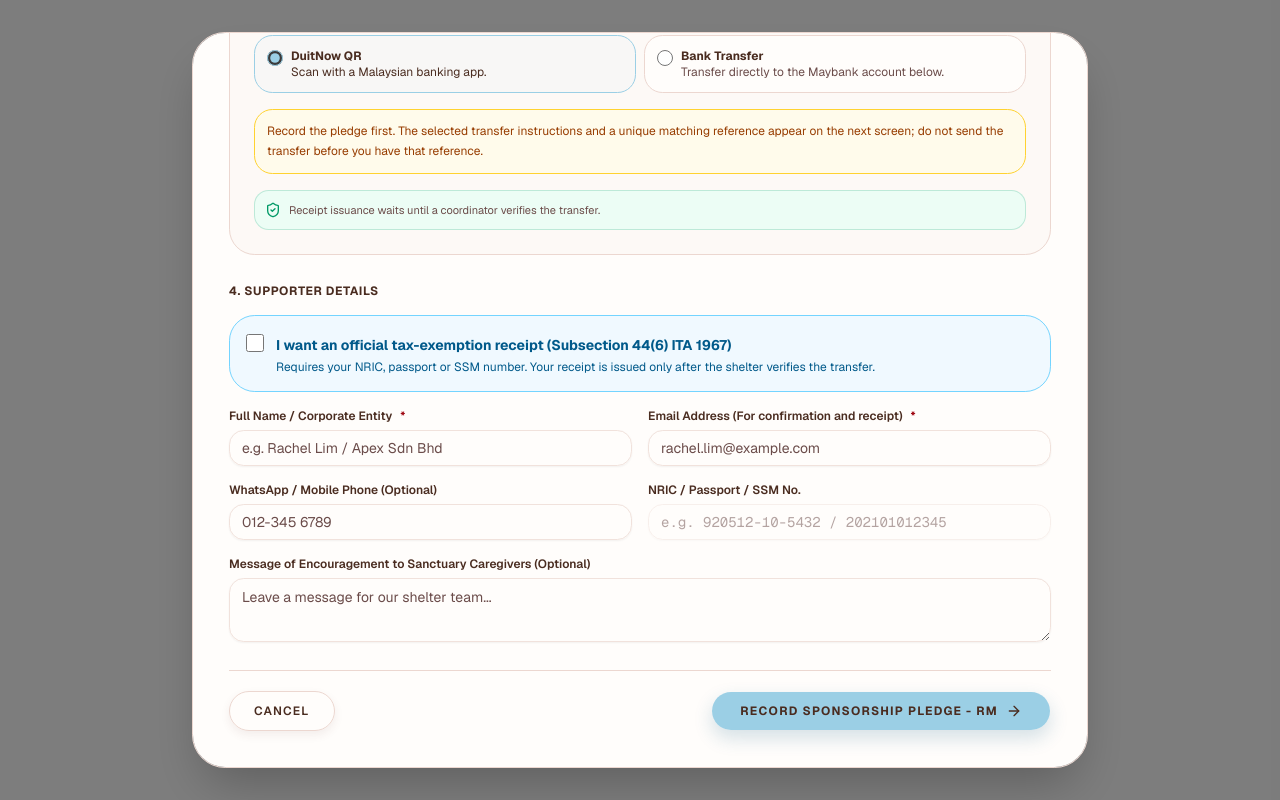
Test: SponsorshipModal checkout contract › renders a pledge acknowledgement without inventing an issued receipt
(page scrolled)
Type "Aisyah Rahman" into the field labelled "Full Name / Corporate Entity *" at (430, 448), box [229, 430, 632, 466]
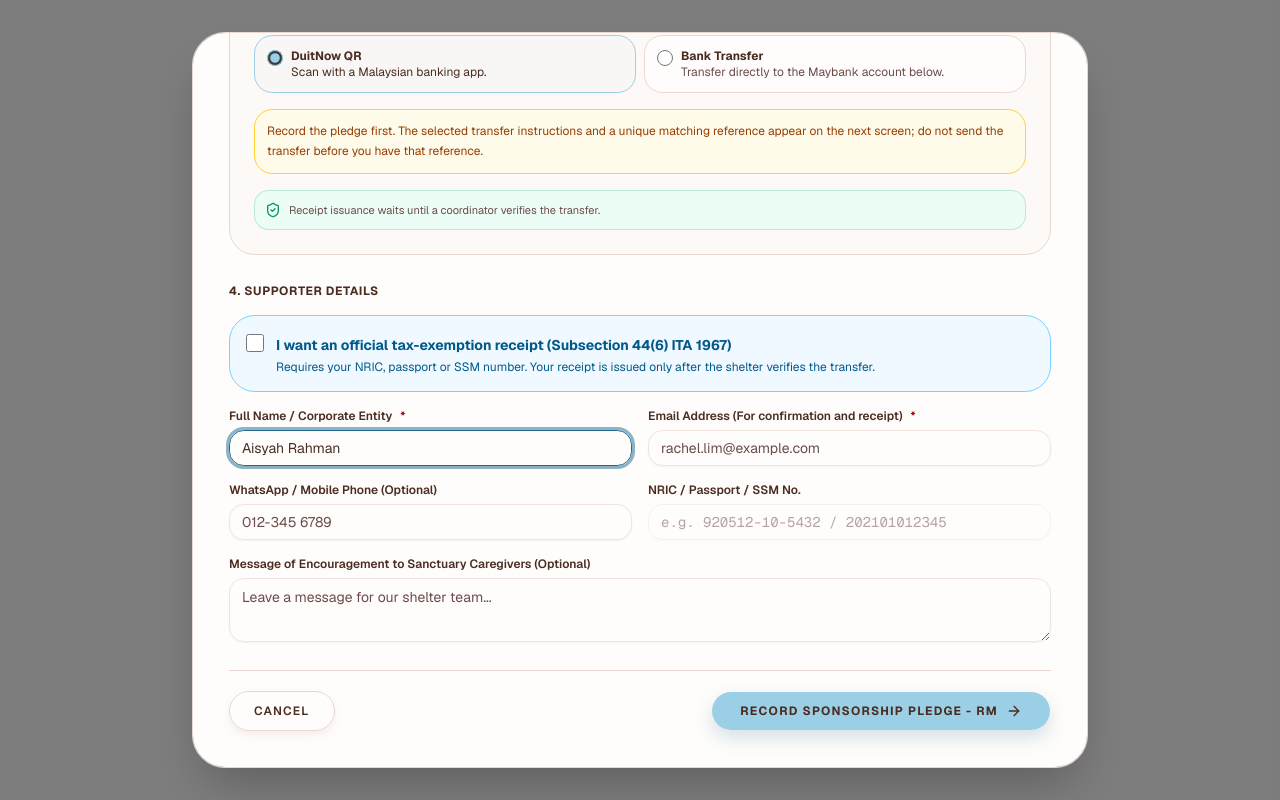
Type "aisyah@example.com" into the field labelled "Email Address (For confirmation and receipt) *" at (850, 448), box [648, 430, 1051, 466]
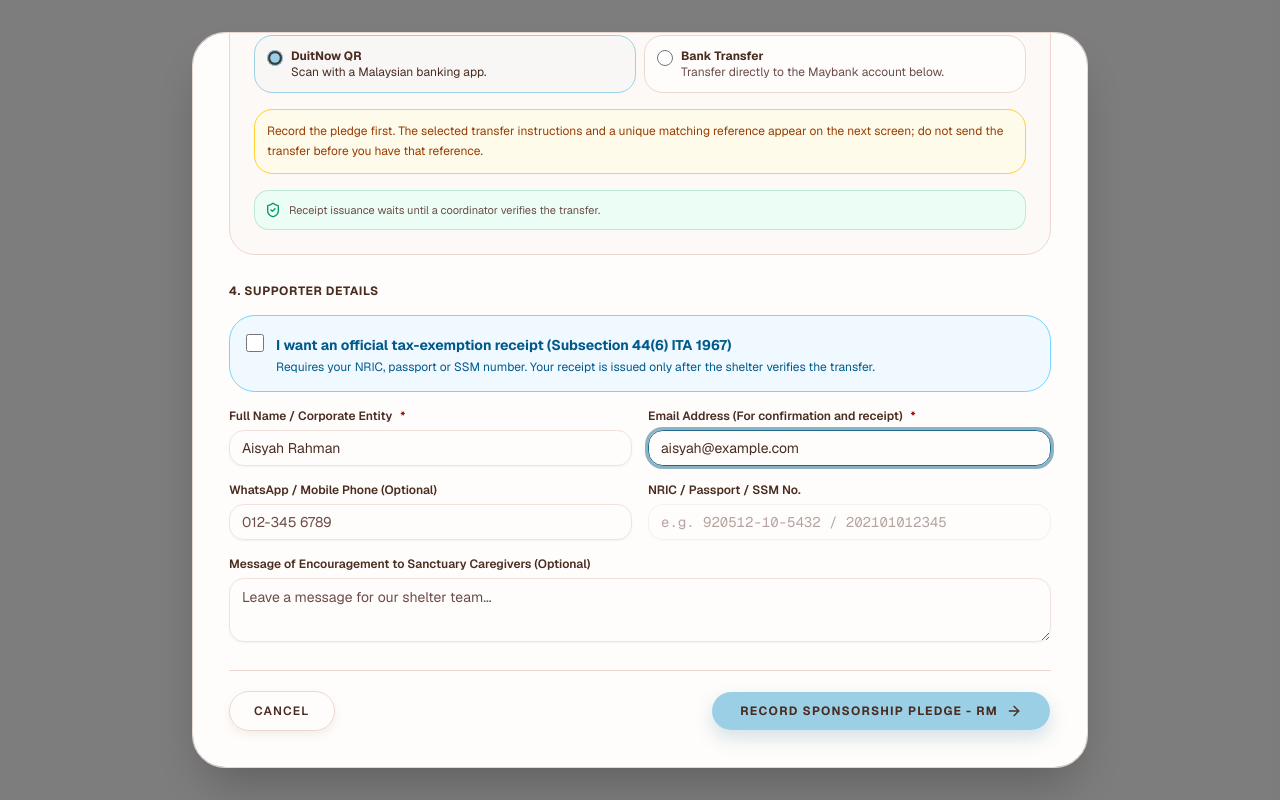
Click the button "Record Sponsorship Pledge - RM" at (881, 711), box [711, 691, 1051, 731]
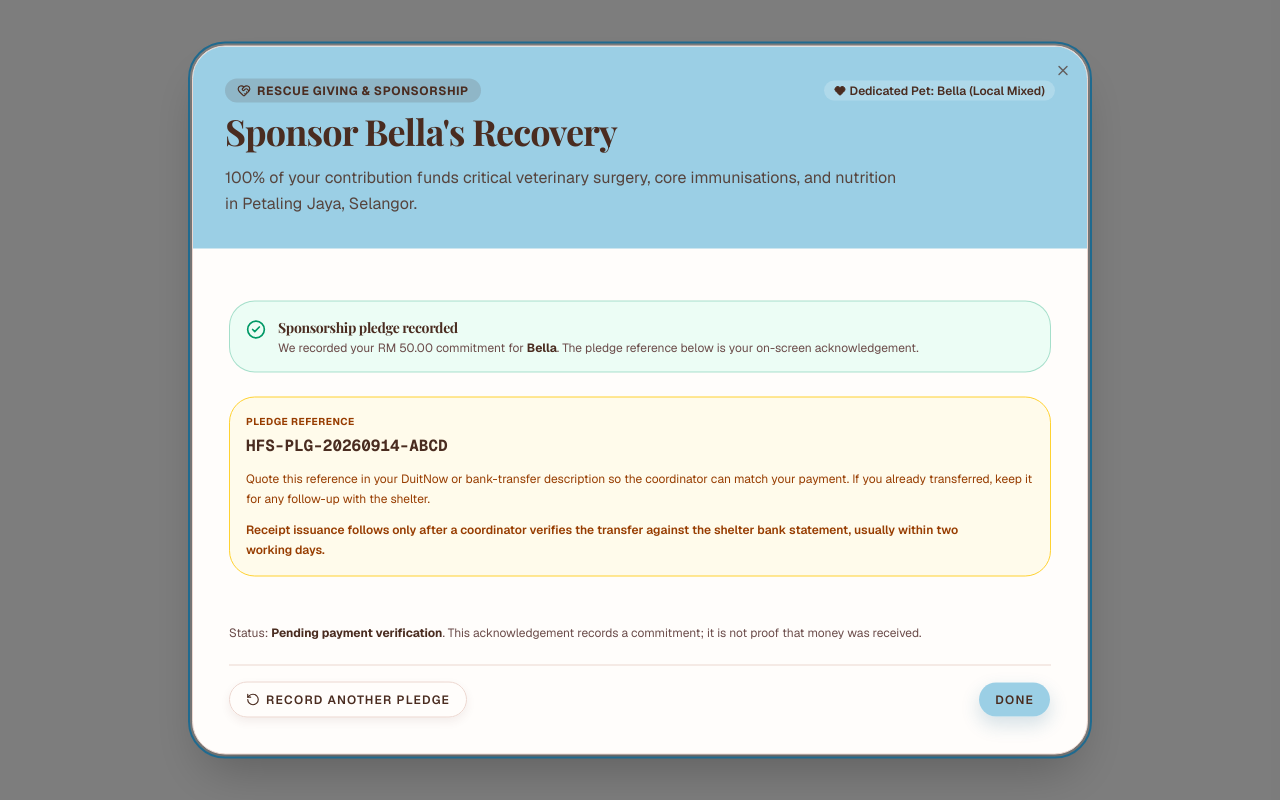
Expected: the text "HFS-PLG-20260914-ABCD" is shown, [246, 434, 448, 456]
Expected: the message is shown, [229, 300, 1051, 372]
Expected: the heading "Sponsorship pledge recorded" is shown, [278, 318, 458, 336]
